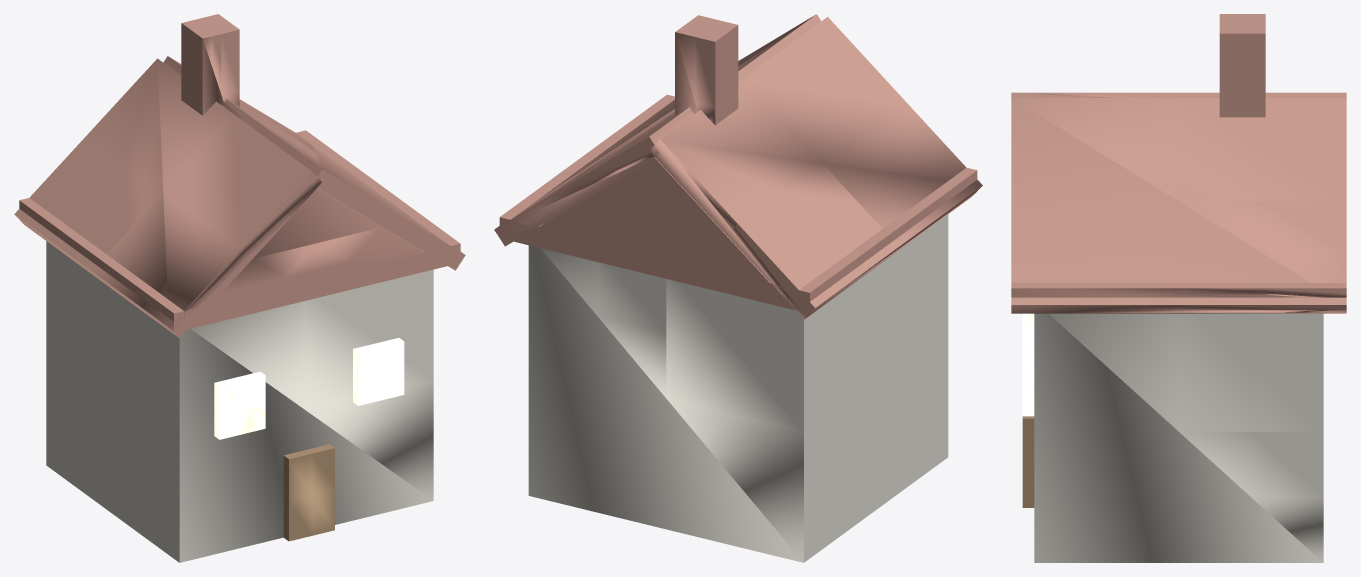
File: house.glb
3 views of the same model, side by side, from view 1: azimuth 30°, elevation 25°; view 2: azimuth 150°, elevation 25°; view 3: azimuth 270°, elevation 25° (orthographic). The views are drawn at different scales.
Parts seen in each view (by area): view 1: MetroHouse; view 2: MetroHouse; view 3: MetroHouse.
Part boxes in pixels (<box>): MetroHouse: <box>14,14,465,562</box>; MetroHouse: <box>494,14,982,562</box>; MetroHouse: <box>1011,14,1346,562</box>.
Bounding box in the file's own units: 1.28 × 1.8 × 1.16.
